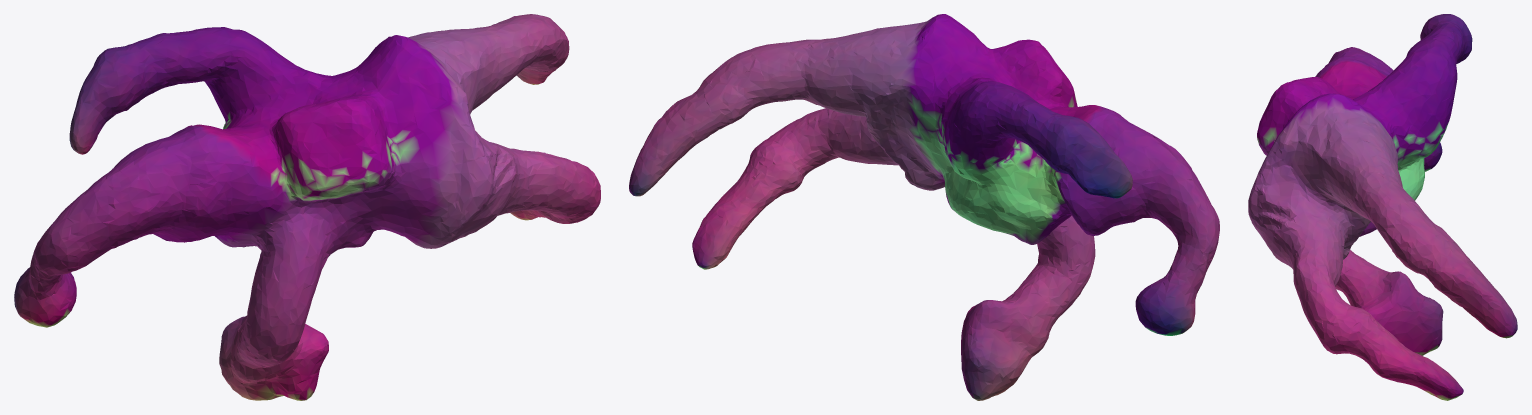
Rendered from santa-14.off.obj.
3 renders of one model, left to right at view 1: azimuth 30°, elevation 25°; view 2: azimuth 150°, elevation 25°; view 3: azimuth 270°, elevation 25°, orthographic. The views are drawn at different scales.
Bounding box in the file's own units: 1.59 × 0.9642 × 0.7748.
